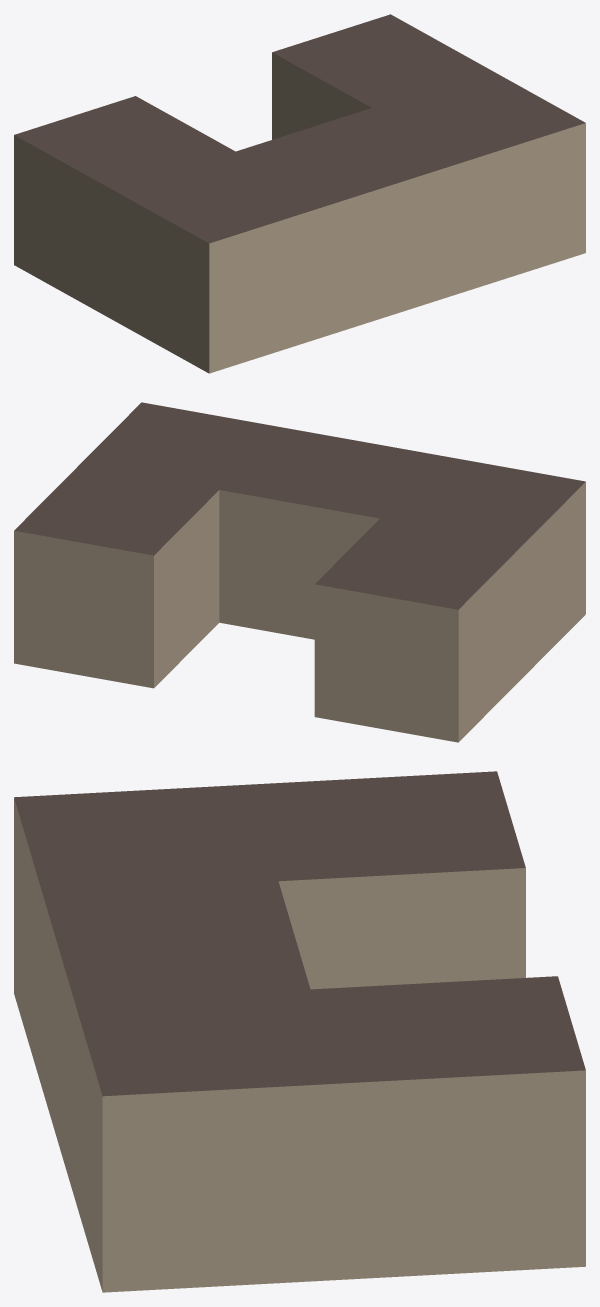
The picture shows the model from 3 angles, top to bottom: view 1: azimuth 30°, elevation 25°; view 2: azimuth 150°, elevation 25°; view 3: azimuth 270°, elevation 25°; orthographic projection. The views are drawn at different scales.
Parts seen in each view (by area): view 1: HP-w859488641; view 2: HP-w859488641; view 3: HP-w859488641.
Boxes of the visible parts, box(x1,y1,x2,y2) form: HP-w859488641: box(14, 14, 585, 373); HP-w859488641: box(14, 402, 585, 742); HP-w859488641: box(14, 771, 585, 1292).
Size of the model in its own units: 31.94 by 9 by 23.76.
